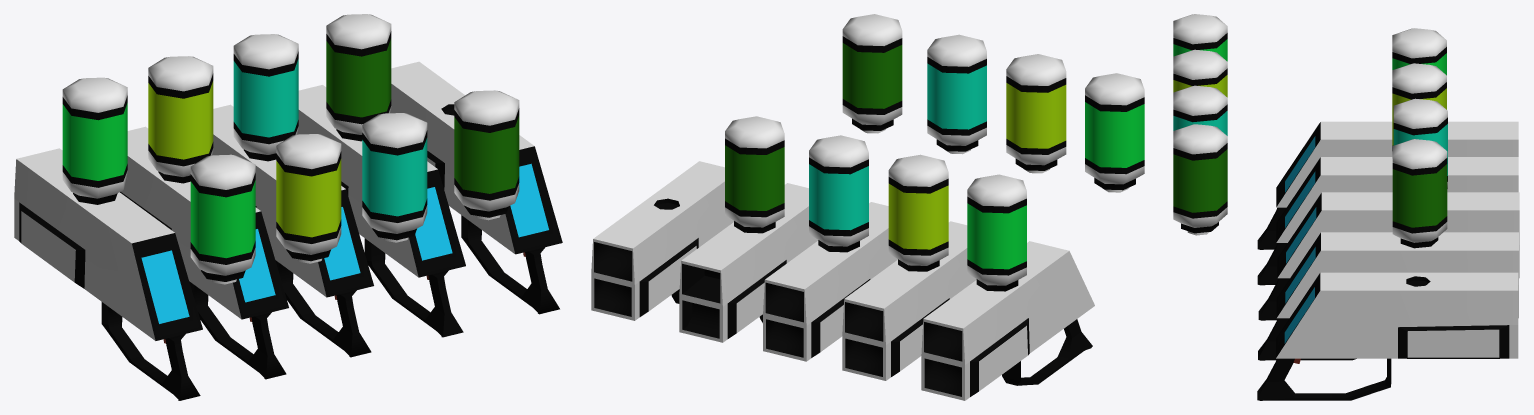
The model's file is Plantgun.fbx.
3 views of the same model, side by side, from view 1: azimuth 30°, elevation 25°; view 2: azimuth 150°, elevation 25°; view 3: azimuth 270°, elevation 25° (orthographic). The views are drawn at different scales.
Visible parts, largest first — view 1: Plant1wammo, Plant2wammo, Plant4wammo, Plant3wammo, gun, Plant4, Plant1, Plant2, Plant3; view 2: Plant1wammo, Plant4wammo, Plant2wammo, Plant3wammo, gun, Plant2, Plant4, Plant1, Plant3; view 3: gun, Plant4wammo, Plant3wammo, Plant2wammo, Plant1wammo, Plant4, Plant3, Plant2, Plant1.
Boxes of the visible parts, <box> form: Plant1wammo: <box>14,77,202,400</box>; Plant2wammo: <box>120,56,288,379</box>; Plant4wammo: <box>298,14,465,337</box>; Plant3wammo: <box>213,34,373,357</box>; gun: <box>391,61,562,314</box>; Plant4: <box>454,90,519,220</box>; Plant1: <box>190,154,255,284</box>; Plant2: <box>276,134,341,263</box>; Plant3: <box>362,113,427,242</box>; Plant1wammo: <box>921,174,1094,400</box>; Plant4wammo: <box>679,116,818,342</box>; Plant2wammo: <box>842,154,976,380</box>; Plant3wammo: <box>763,135,897,361</box>; gun: <box>591,161,733,320</box>; Plant2: <box>1006,54,1066,173</box>; Plant4: <box>842,14,902,133</box>; Plant1: <box>1085,73,1144,192</box>; Plant3: <box>927,34,986,154</box>; gun: <box>1257,272,1518,400</box>; Plant4wammo: <box>1258,139,1518,360</box>; Plant3wammo: <box>1258,98,1519,320</box>; Plant2wammo: <box>1257,63,1518,285</box>; Plant1wammo: <box>1257,28,1518,249</box>; Plant4: <box>1173,124,1227,235</box>; Plant3: <box>1173,85,1227,135</box>; Plant2: <box>1173,49,1227,97</box>; Plant1: <box>1173,14,1227,61</box>.
Size of the model in its own units: 130 by 78.7 by 109.
